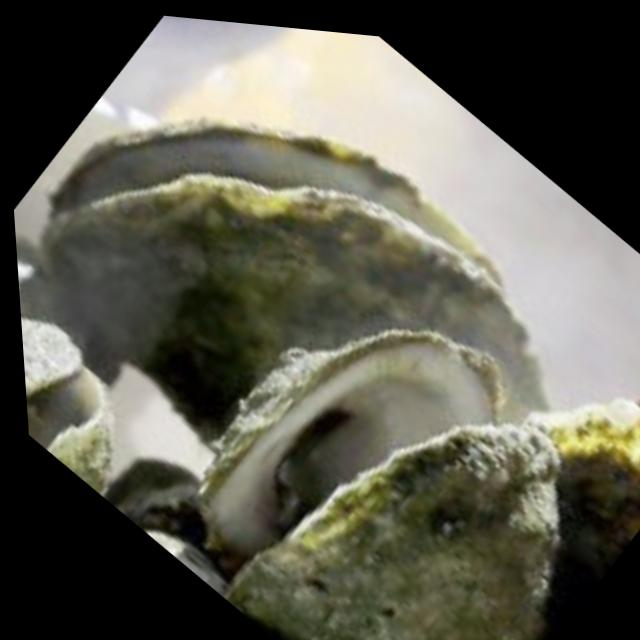Oyster-Open: (44, 123, 555, 452), (195, 327, 559, 640), (531, 406, 640, 640), (21, 315, 112, 498)
